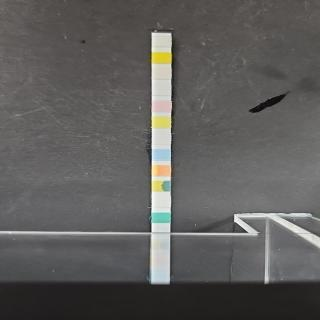mark: (152, 99, 171, 113), (152, 69, 172, 81), (152, 52, 171, 64), (152, 84, 171, 96), (152, 117, 171, 129), (152, 149, 171, 161), (152, 165, 171, 177), (152, 180, 171, 192), (152, 197, 171, 209), (152, 37, 172, 48), (152, 134, 171, 145), (151, 213, 170, 224)
